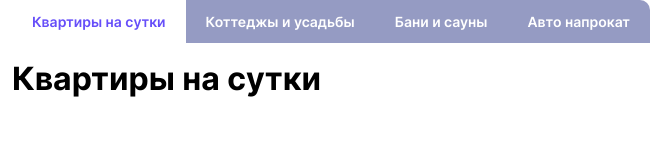
Test: Tab › При клике на Таб, отображается соответсвующий ему экран
Click the list item "Коттеджы и усадьбы": (280, 22) [186,0,375,43]
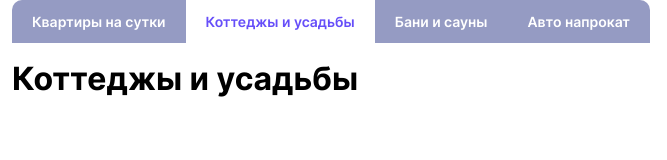
Result: the heading "Коттеджы и усадьбы" is shown at [12,59,358,98]
